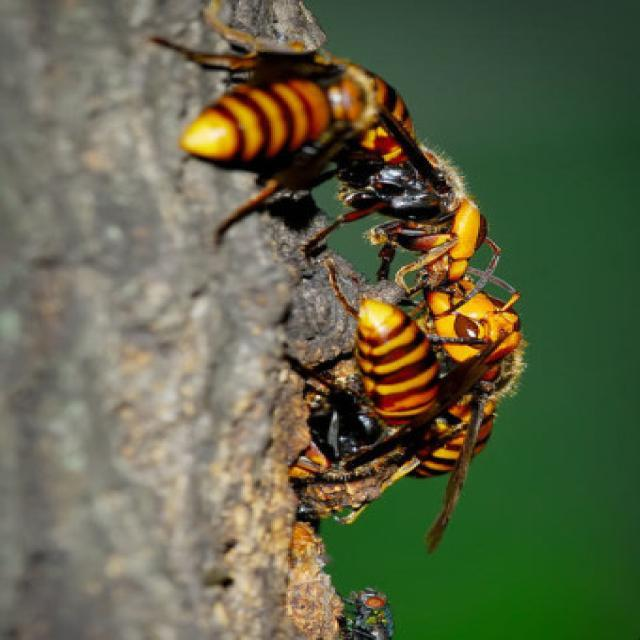Wasp: (156, 8, 412, 200), (293, 284, 421, 492), (425, 255, 524, 482)
